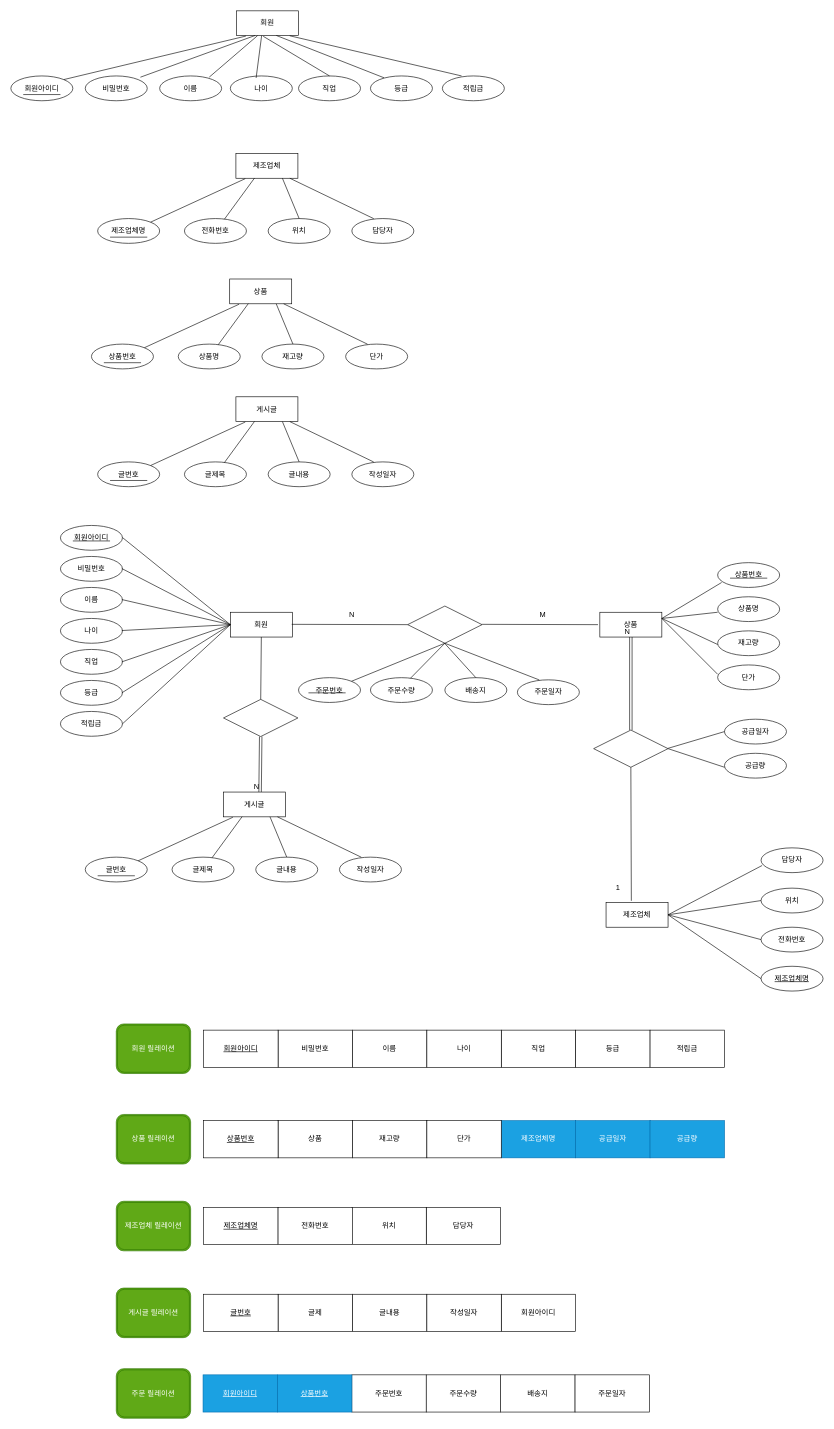
Image size: 834x1429. Some labels were removed from this diagram. Each missing label, with the centre of its shape:
"공급" goes at [630,748].
"작성" goes at [260,718].
"주문" goes at [444,624].
